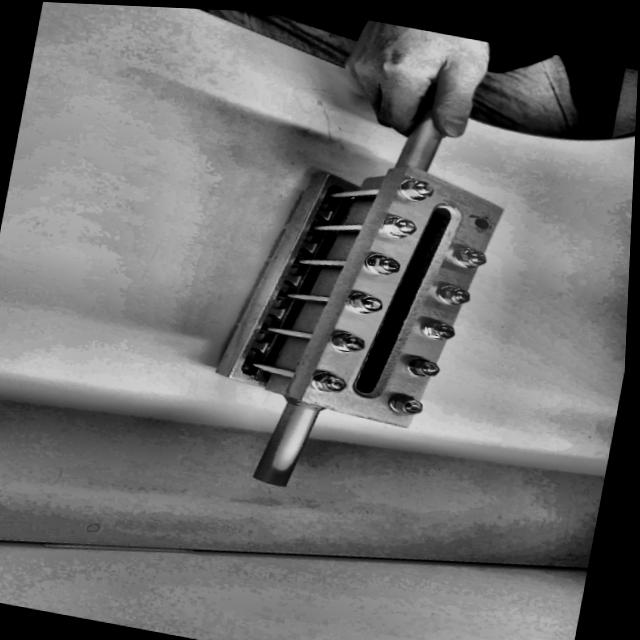ShuiWeiQi_11: (167, 93, 575, 527)
